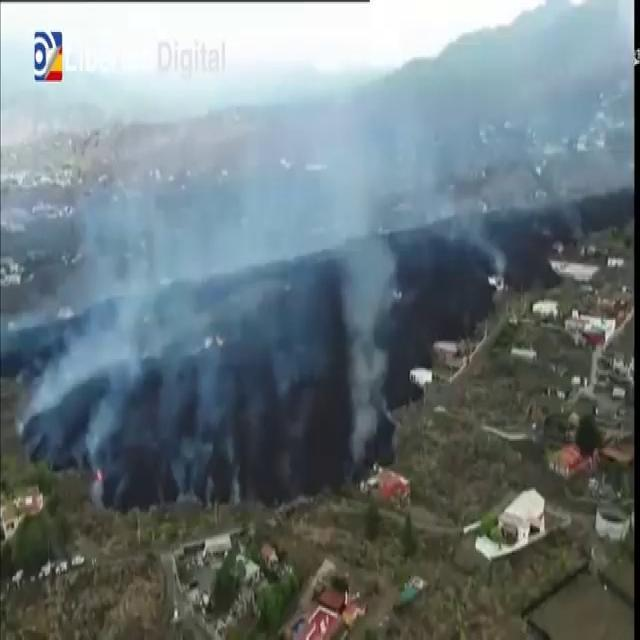Smoke: (25, 130, 408, 474)
